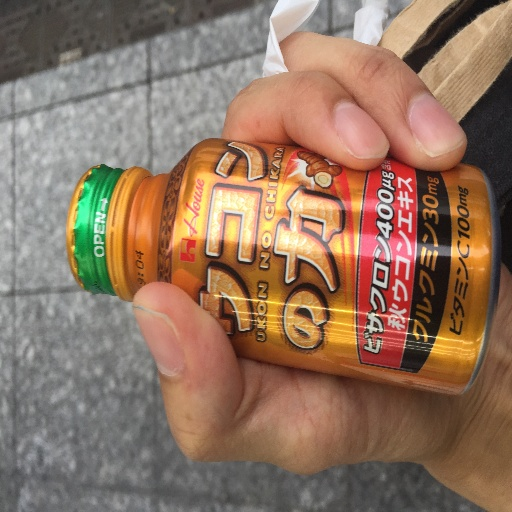hand: (131, 27, 511, 482)
